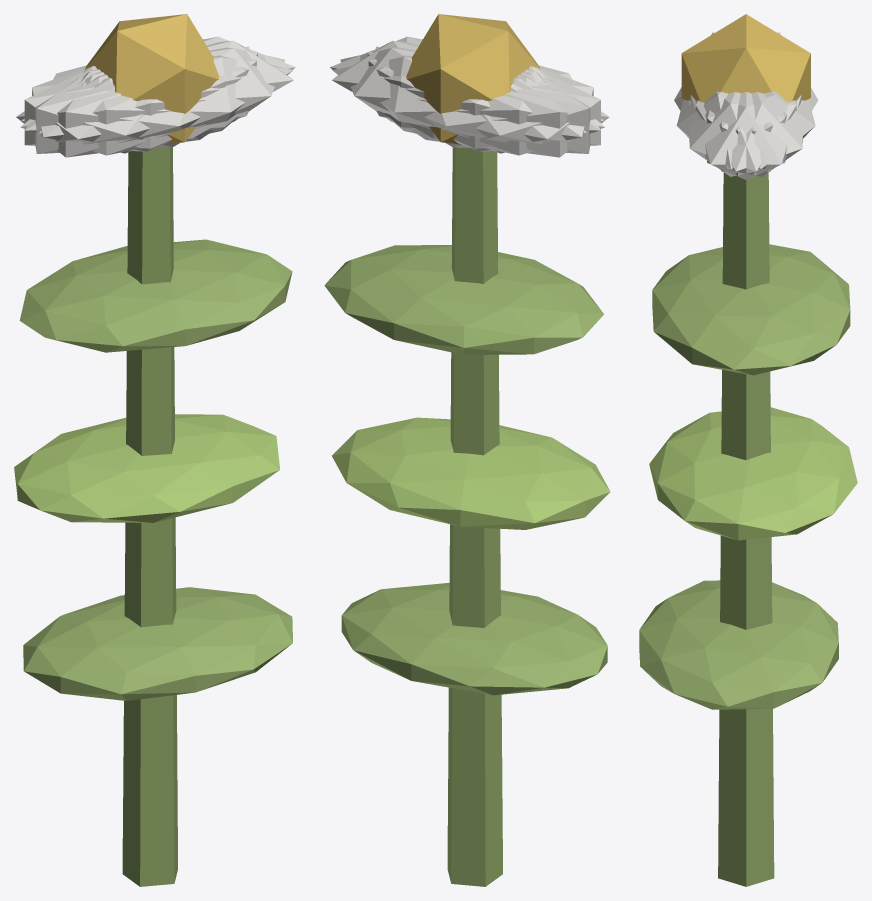
Rendered from bergera-koenigii.glb.
3 renders of one model, left to right at view 1: azimuth 30°, elevation 25°; view 2: azimuth 150°, elevation 25°; view 3: azimuth 270°, elevation 25°, orthographic.
Visible parts, largest first — view 1: stem, leaf0, leaf2, leaf1, center, petal1, petal6, petal2, petal5, petal7, petal0, petal4 (+2 smaller); view 2: stem, leaf1, leaf2, leaf0, center, petal8, petal3, petal7, petal4, petal2, petal0, petal5 (+2 smaller); view 3: stem, leaf2, leaf1, leaf0, center, petal0, petal4, petal5, petal1, petal8.
Part boxes in pixels (x1,y1,x2,y2): stem: (122, 147, 177, 886); leaf0: (23, 587, 292, 700); leaf2: (19, 239, 292, 352); leaf1: (14, 414, 279, 522); center: (85, 14, 219, 144); petal1: (20, 55, 292, 155); petal6: (16, 67, 213, 157); petal2: (35, 46, 249, 153); petal5: (39, 47, 285, 148); petal7: (24, 52, 257, 151); petal0: (84, 40, 293, 138); petal4: (21, 36, 295, 130); stem: (447, 147, 502, 886); leaf1: (332, 417, 610, 529); leaf2: (324, 245, 603, 354); leaf0: (341, 582, 607, 695); center: (406, 14, 540, 144); petal8: (332, 55, 604, 155); petal3: (412, 67, 609, 157); petal7: (375, 46, 590, 153); petal4: (340, 47, 586, 148); petal2: (367, 52, 600, 151); petal0: (332, 40, 540, 138); petal5: (330, 36, 603, 130); stem: (718, 172, 774, 886); leaf2: (652, 244, 850, 375); leaf1: (649, 407, 857, 540); leaf0: (639, 580, 838, 709); center: (681, 14, 810, 102); petal0: (690, 92, 801, 179); petal4: (695, 92, 803, 176); petal5: (689, 92, 796, 176); petal1: (676, 91, 786, 169); petal8: (705, 91, 815, 169).
Bounding box in the file's own units: 0.1452 × 0.4409 × 0.1035.
